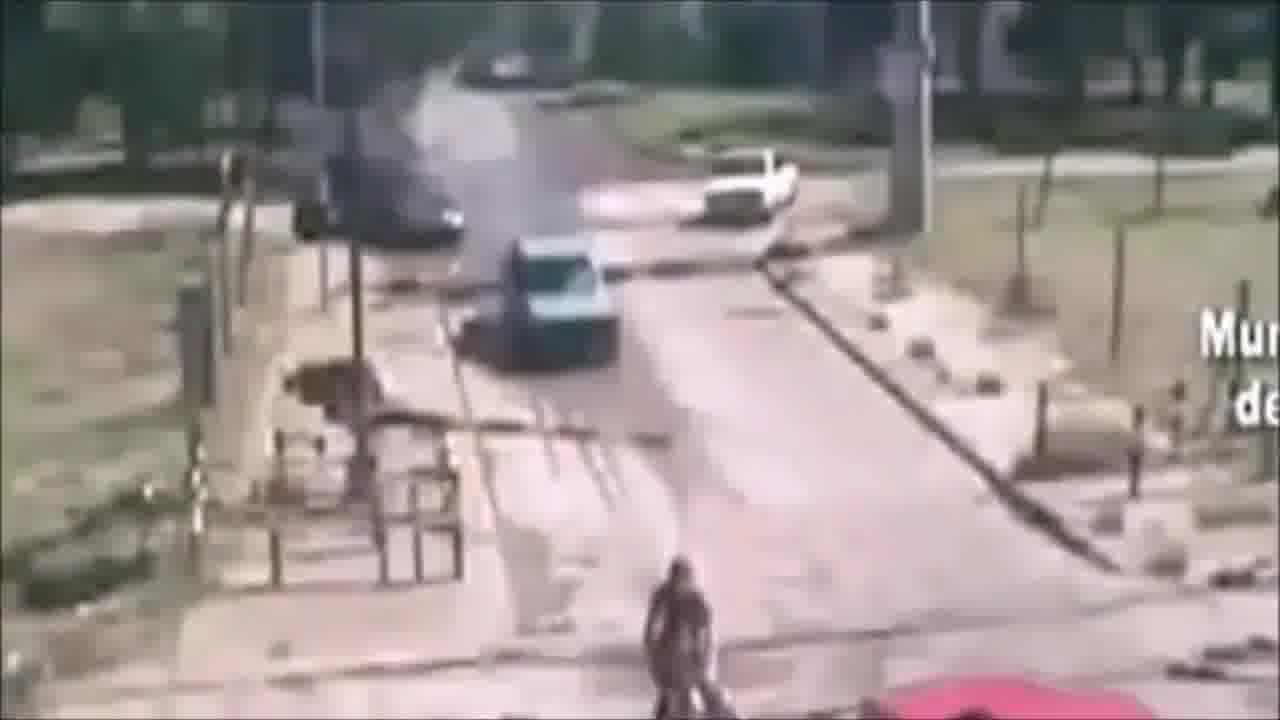crossing railway track: (592, 541, 786, 720)
